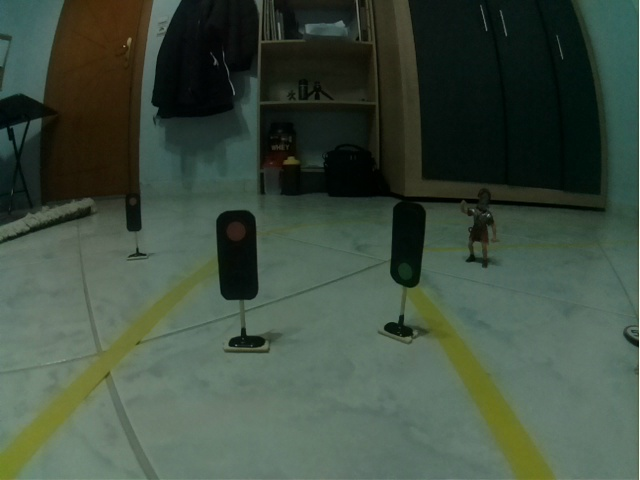Green Traffic Light: (390, 201, 426, 288)
Person: (460, 187, 499, 269)
Red Traffic Light: (214, 209, 259, 301), (125, 193, 142, 232)
